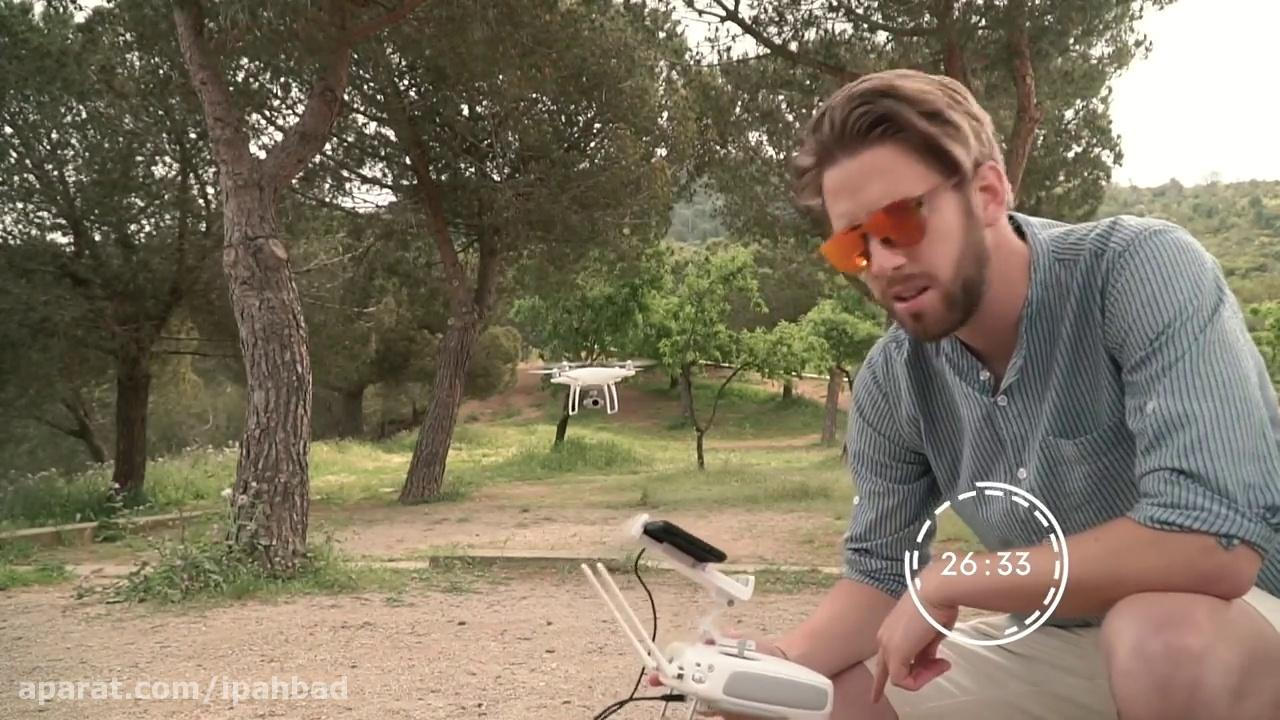drone: (524, 354, 659, 418)
